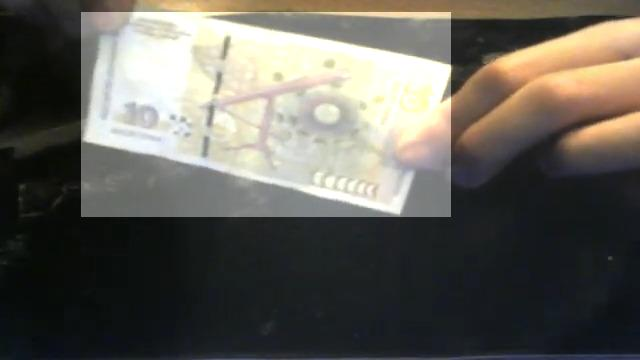10leva: (81, 12, 451, 217)
